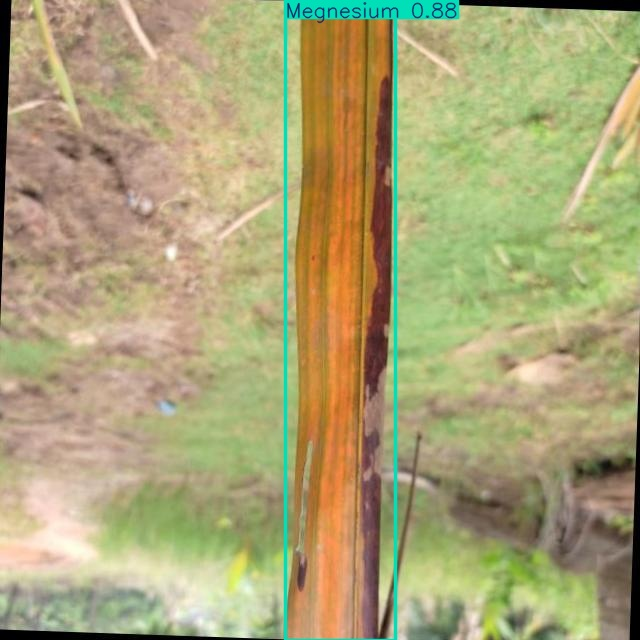Megnesium: (286, 0, 395, 640)
